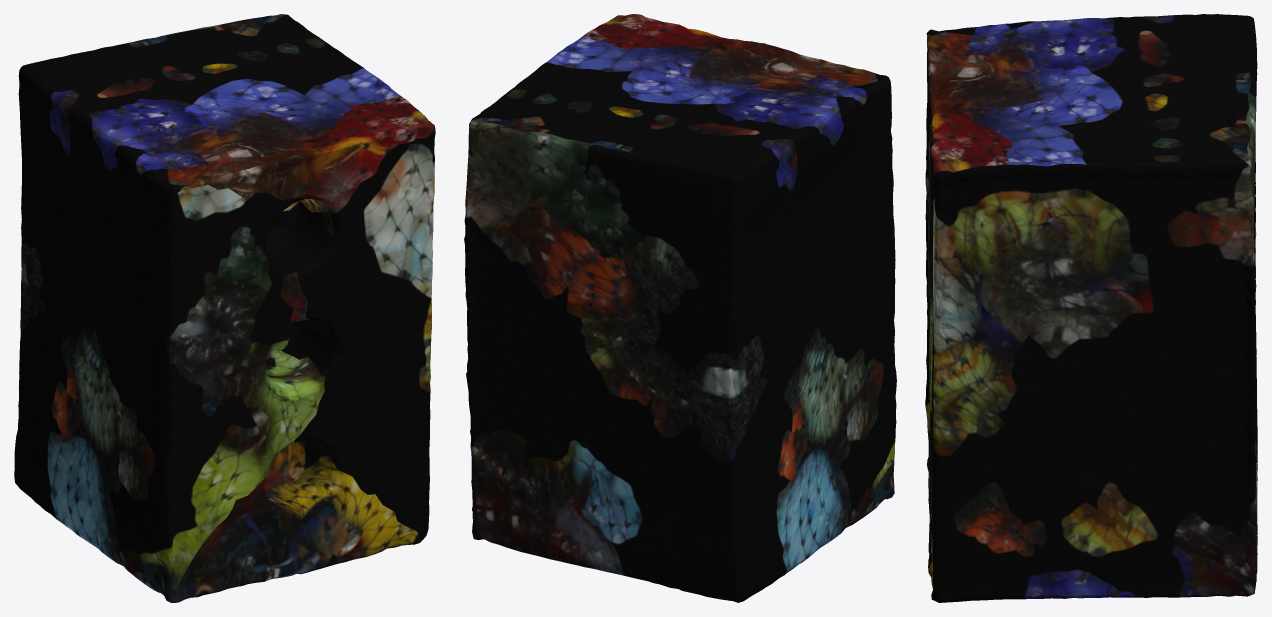
3 renders of one model, left to right at view 1: azimuth 30°, elevation 25°; view 2: azimuth 150°, elevation 25°; view 3: azimuth 270°, elevation 25°, orthographic. The views are drawn at different scales.
Visible parts, largest first — view 1: node; view 2: node; view 3: node.
Part boxes in pixels (box(x1,y1,x2,y2)): node: box(14, 14, 435, 602); node: box(464, 14, 896, 602); node: box(925, 14, 1257, 602).
Size of the model in its own units: 0.0526 by 0.0779 by 0.0512.
